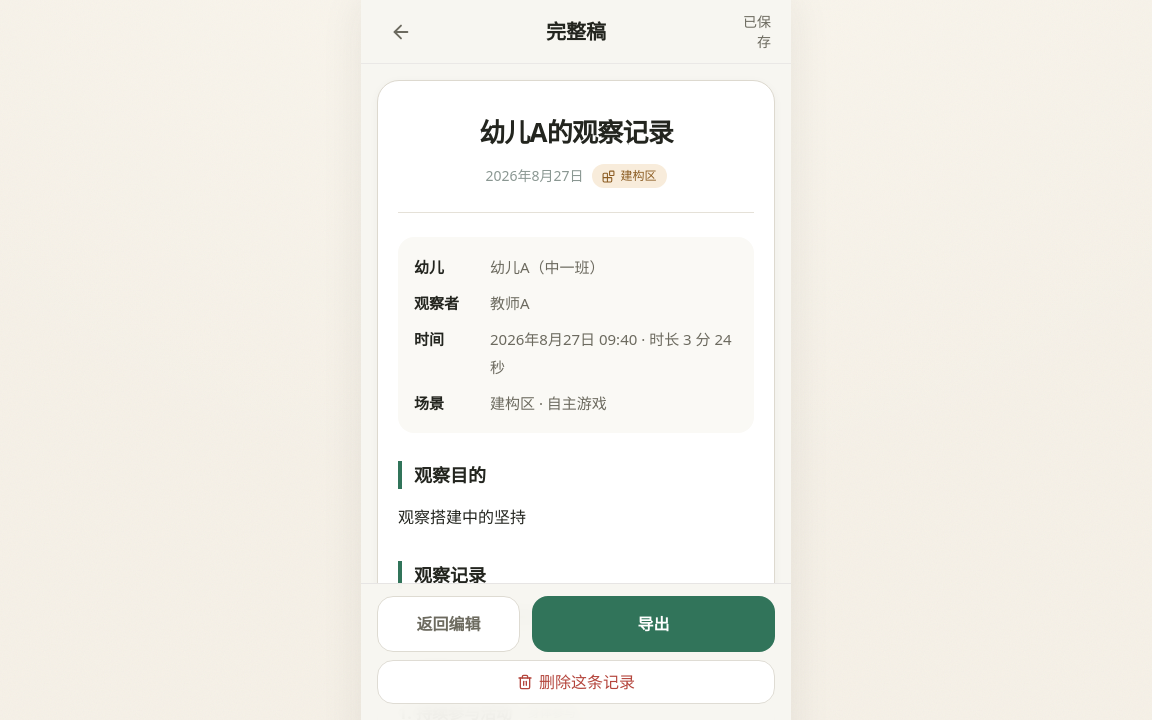
Test: ObservationDetailPage › exports the format selected by the teacher
The width and height of the screenshot is (1152, 720).
Click the button "导出": {"x": 654, "y": 624} [532,596,775,652]
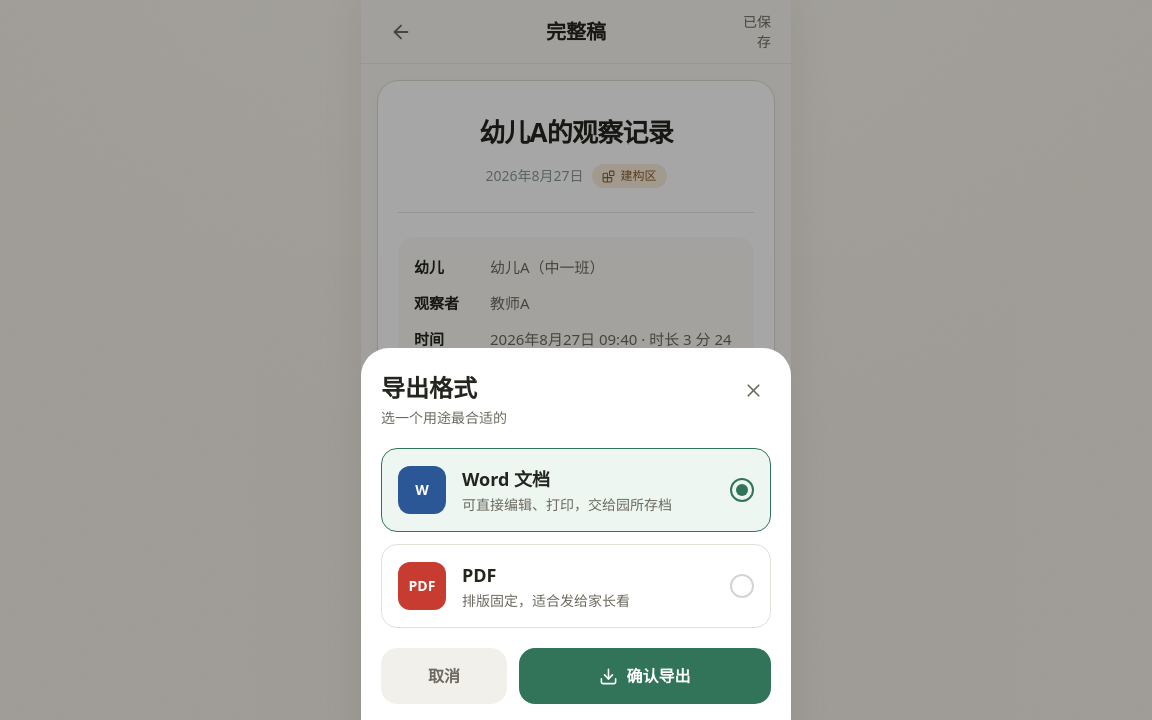
Click the button "PDF PDF 排版固定，适合发给家长看": {"x": 422, "y": 586} [381,544,771,628]
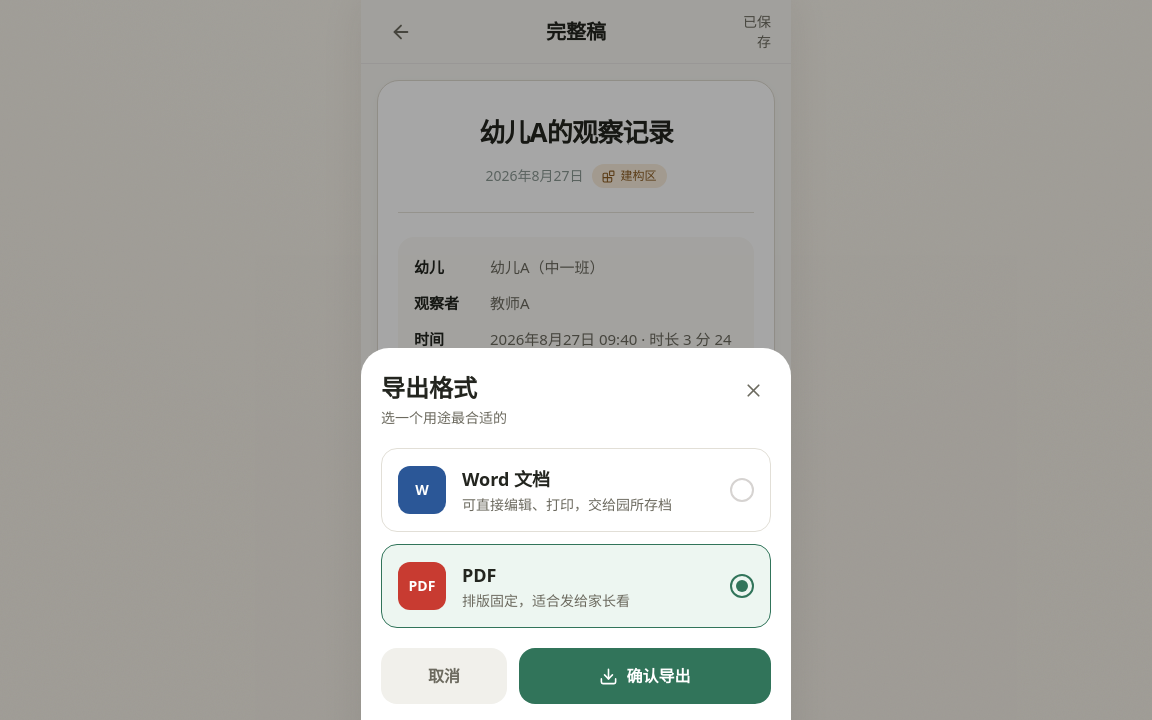
Click the button "确认导出": {"x": 645, "y": 676} [519,648,771,704]
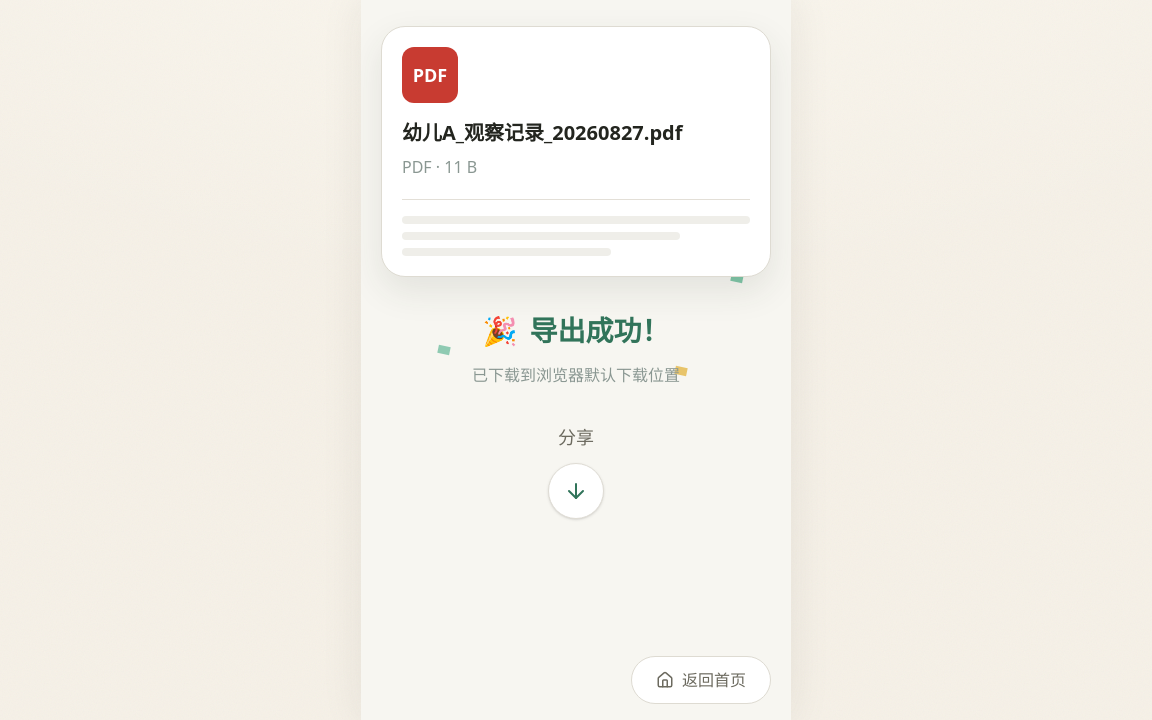
expect the text "导出成功！" is shown: met, box [530,308,670,350]
